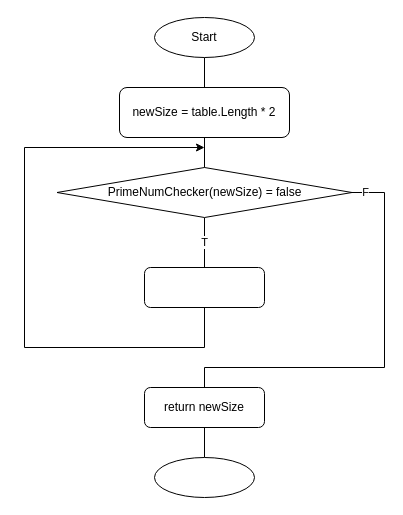
This 403x515 diagram has some shape labels left out. The shapes that lost their labels are listed below. From the top down, each one's centre as x and y in pixels, then its label:
At [204,287]: "newSize++".
At [204,477]: "End".
